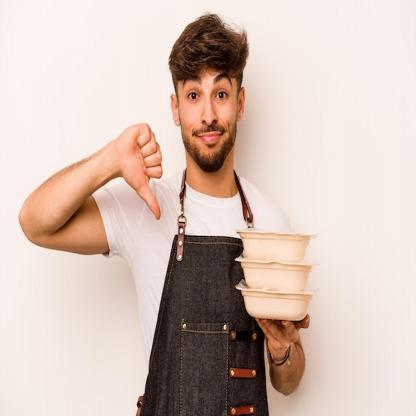thumb_down: (118, 119, 165, 222)
